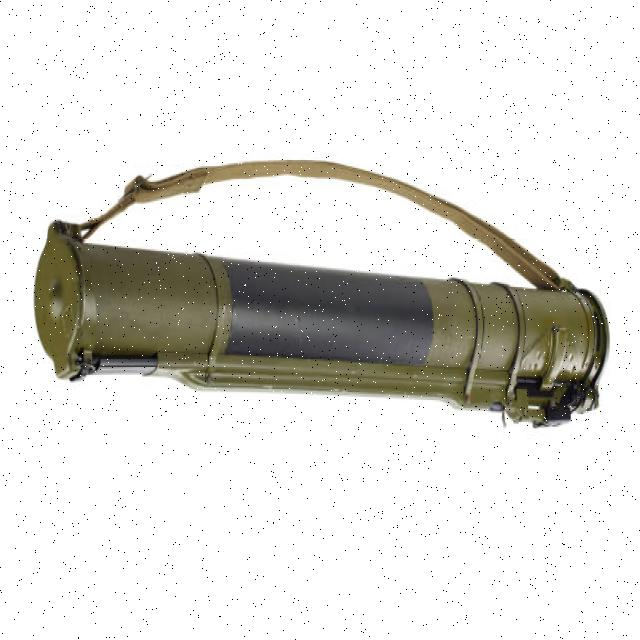bazooka: (30, 221, 615, 448)
